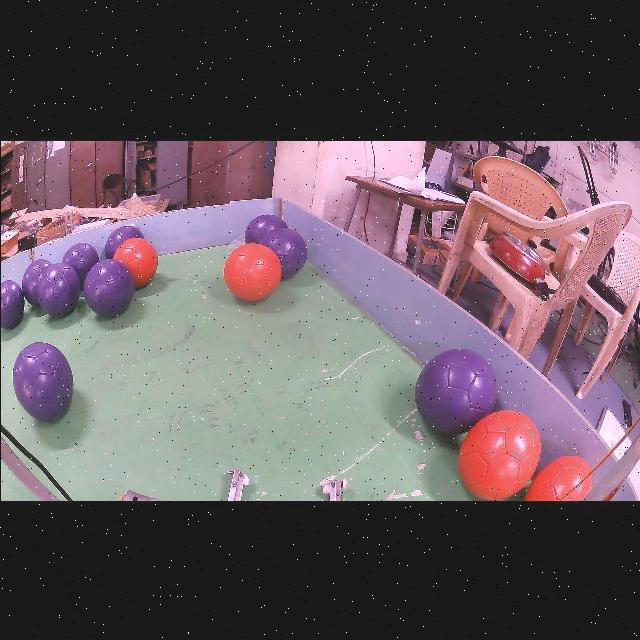P: (414, 348, 495, 434), (12, 341, 72, 420), (82, 258, 134, 315), (36, 261, 80, 316), (258, 228, 306, 278), (61, 241, 99, 287), (21, 259, 50, 306), (104, 225, 142, 258), (0, 279, 24, 328), (244, 214, 286, 242), (629, 498, 640, 499)
R: (458, 410, 540, 499), (222, 242, 280, 300), (522, 455, 591, 500), (112, 238, 158, 286)
